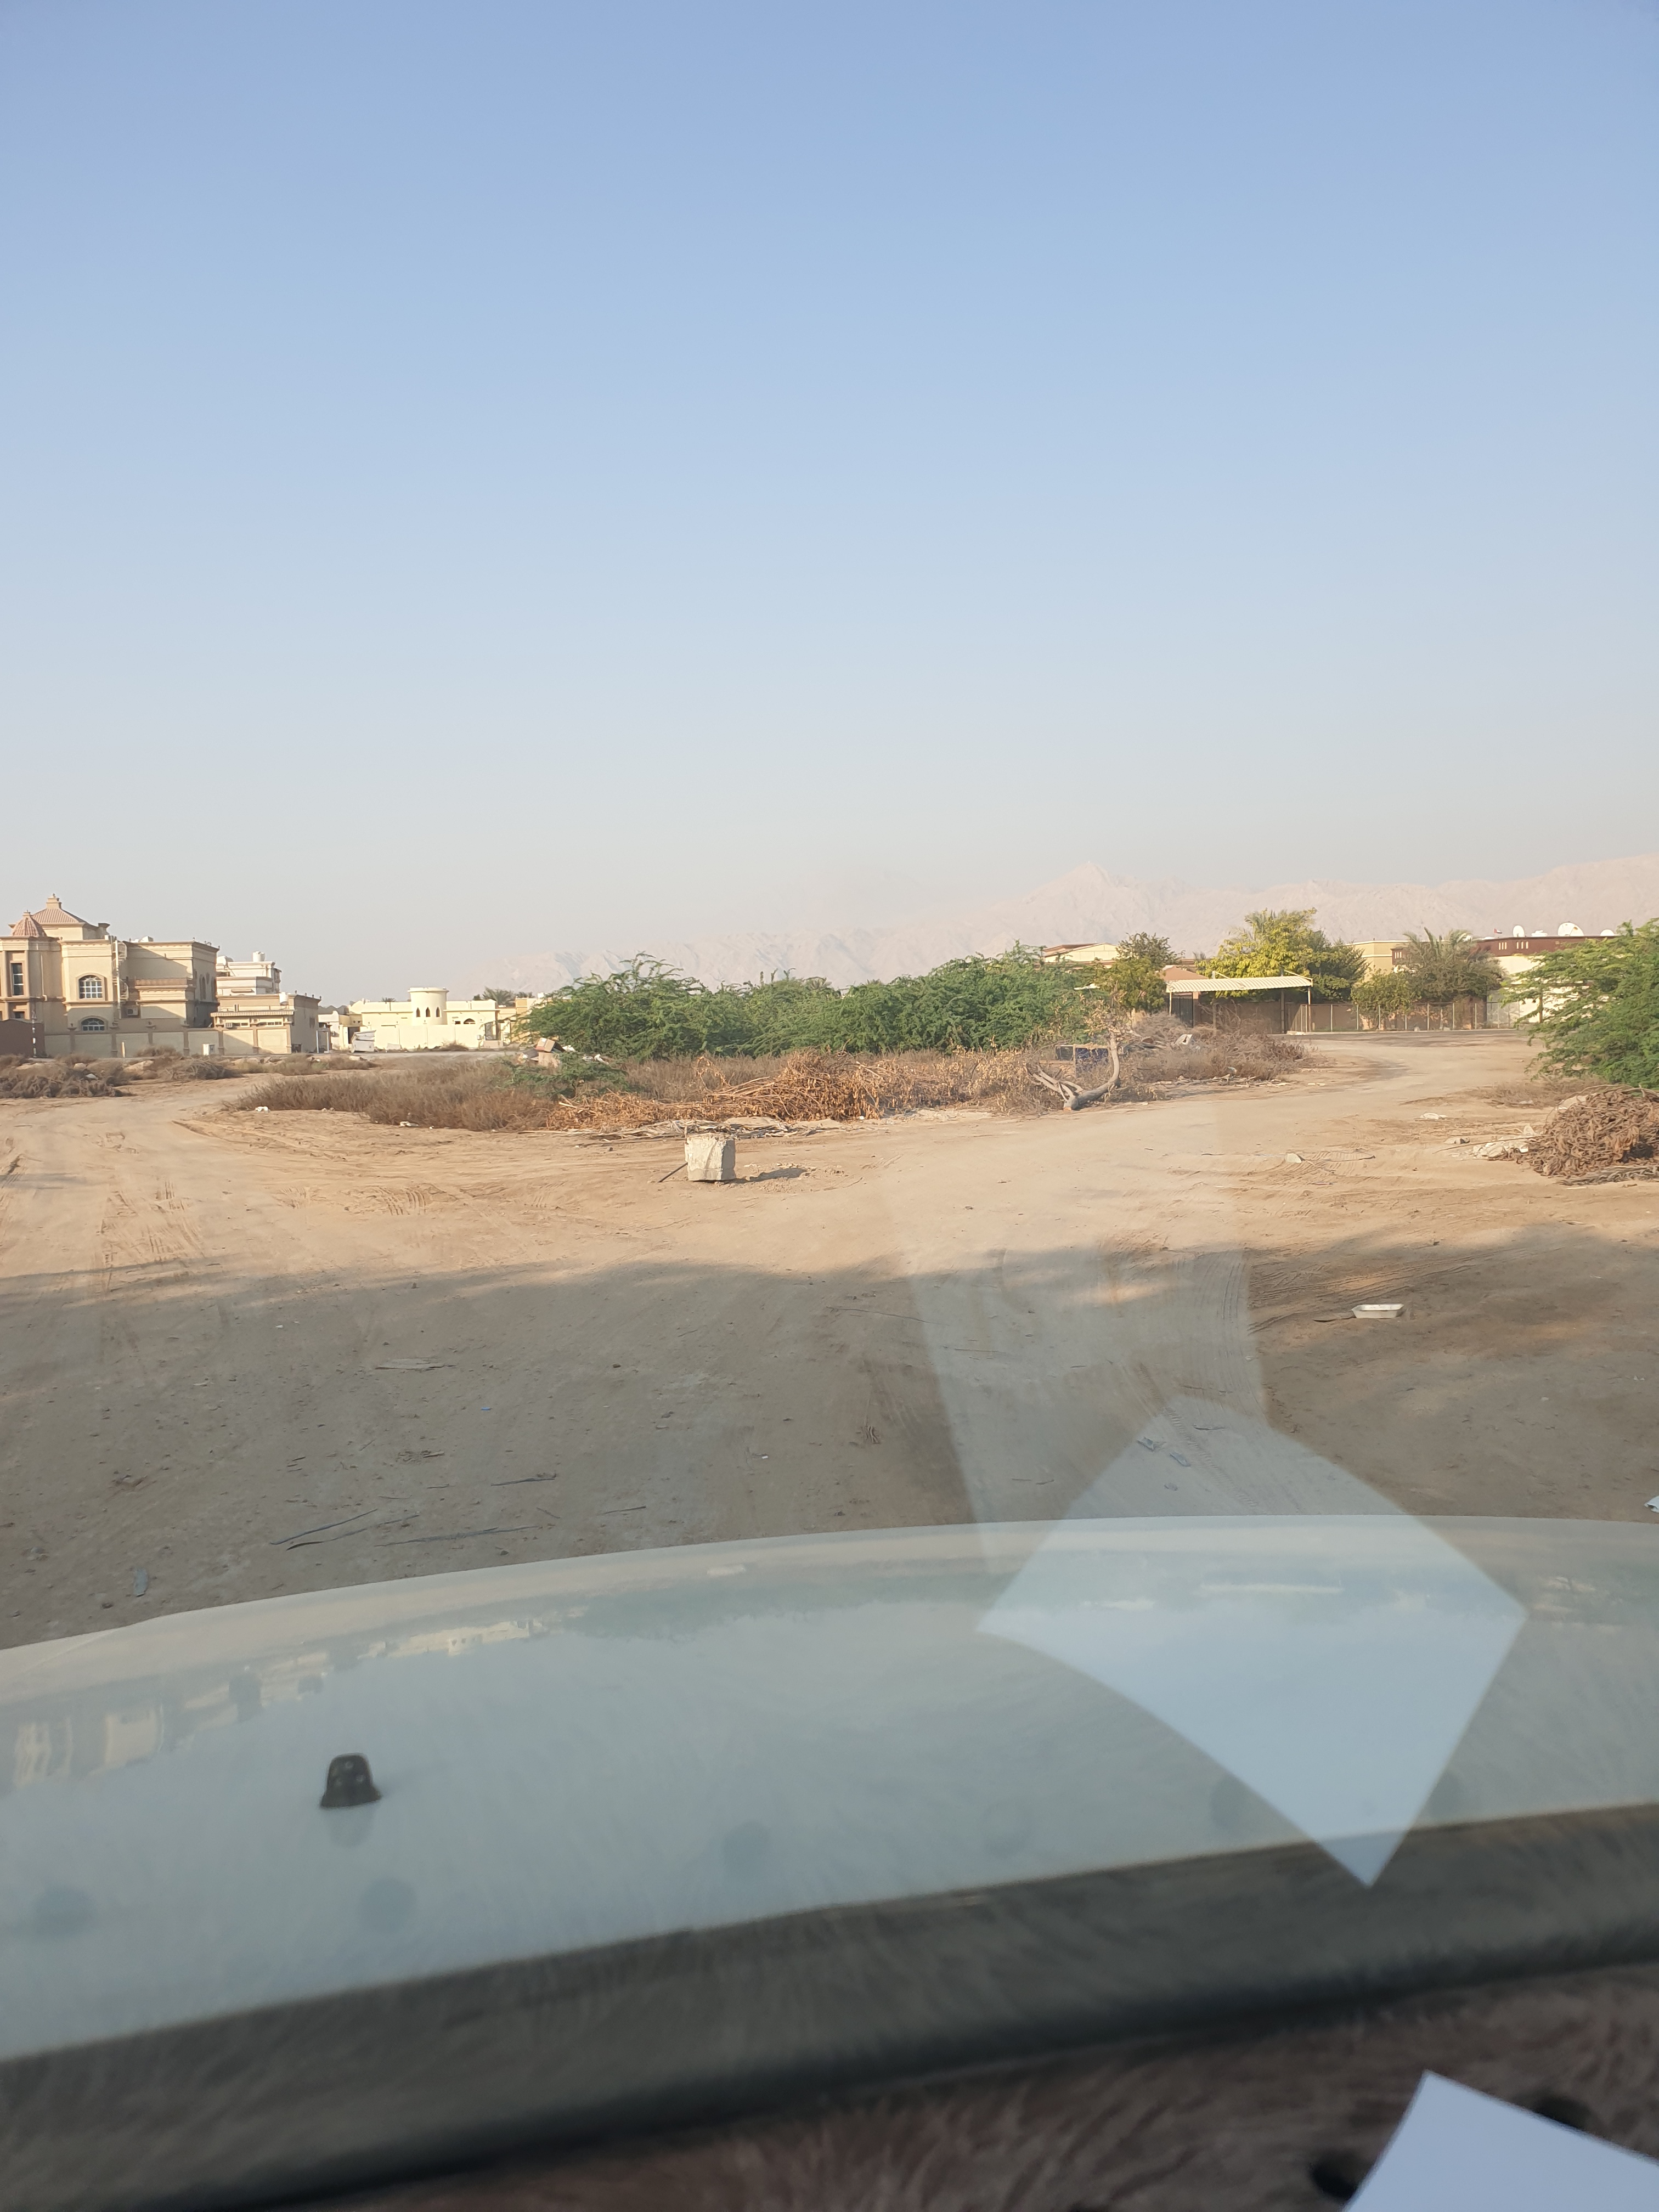fallen_trees: (563, 1089, 920, 1123), (770, 1094, 931, 1141), (711, 1080, 936, 1106)
